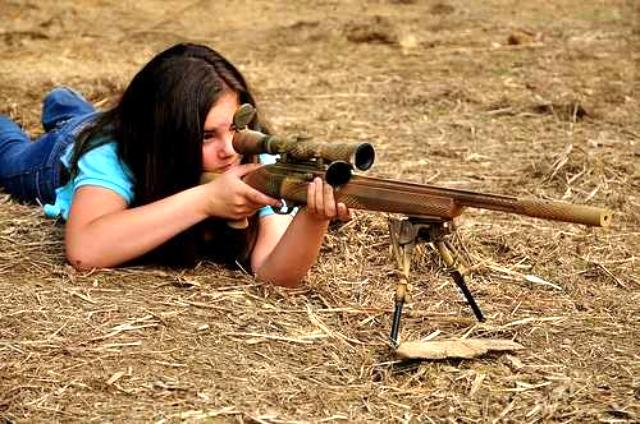rifle: (194, 132, 640, 258)
